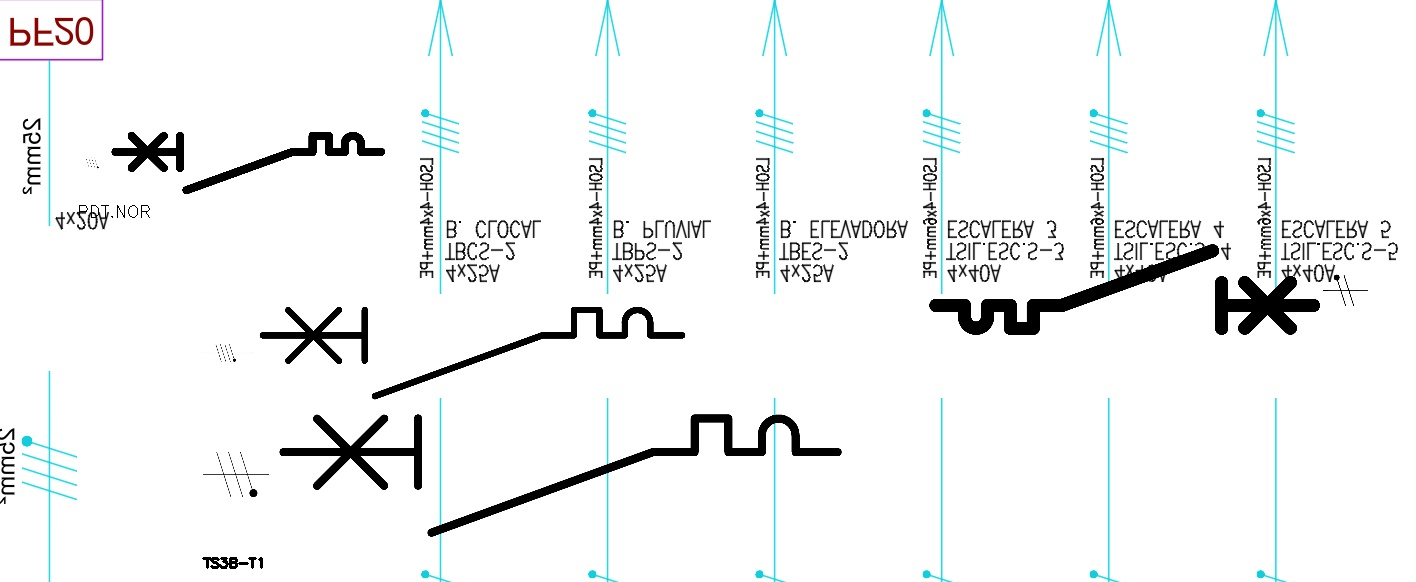interruptor_termomagnetico: (269, 404, 852, 547), (251, 299, 692, 407), (926, 241, 1323, 338), (108, 129, 388, 197)
